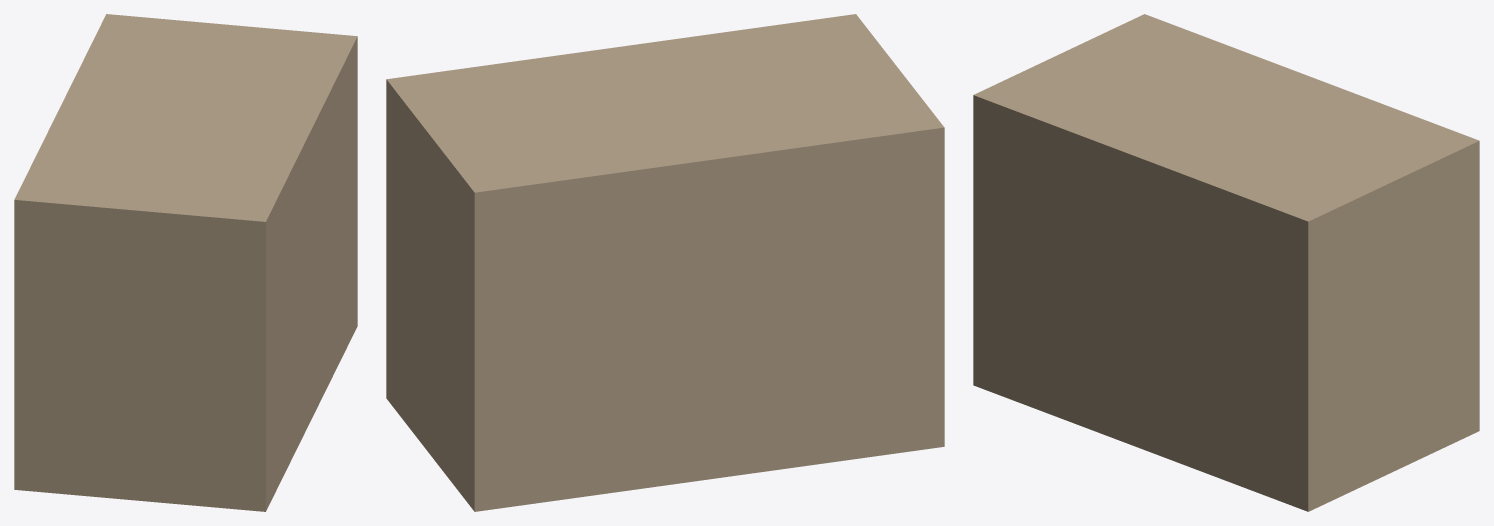
The model's file is bld_108400885.dae.
The picture shows the model from 3 angles, left to right: view 1: azimuth 30°, elevation 25°; view 2: azimuth 150°, elevation 25°; view 3: azimuth 270°, elevation 25°; orthographic projection. The views are drawn at different scales.
Visible parts, largest first — view 1: bld_108400885; view 2: bld_108400885; view 3: bld_108400885.
Boxes of the visible parts, x1,y1,x2,y2 form: bld_108400885: (14,14,357,511); bld_108400885: (386,14,944,511); bld_108400885: (973,14,1479,511).
Bounding box in the file's own units: 12.27 × 12.65 × 8.
